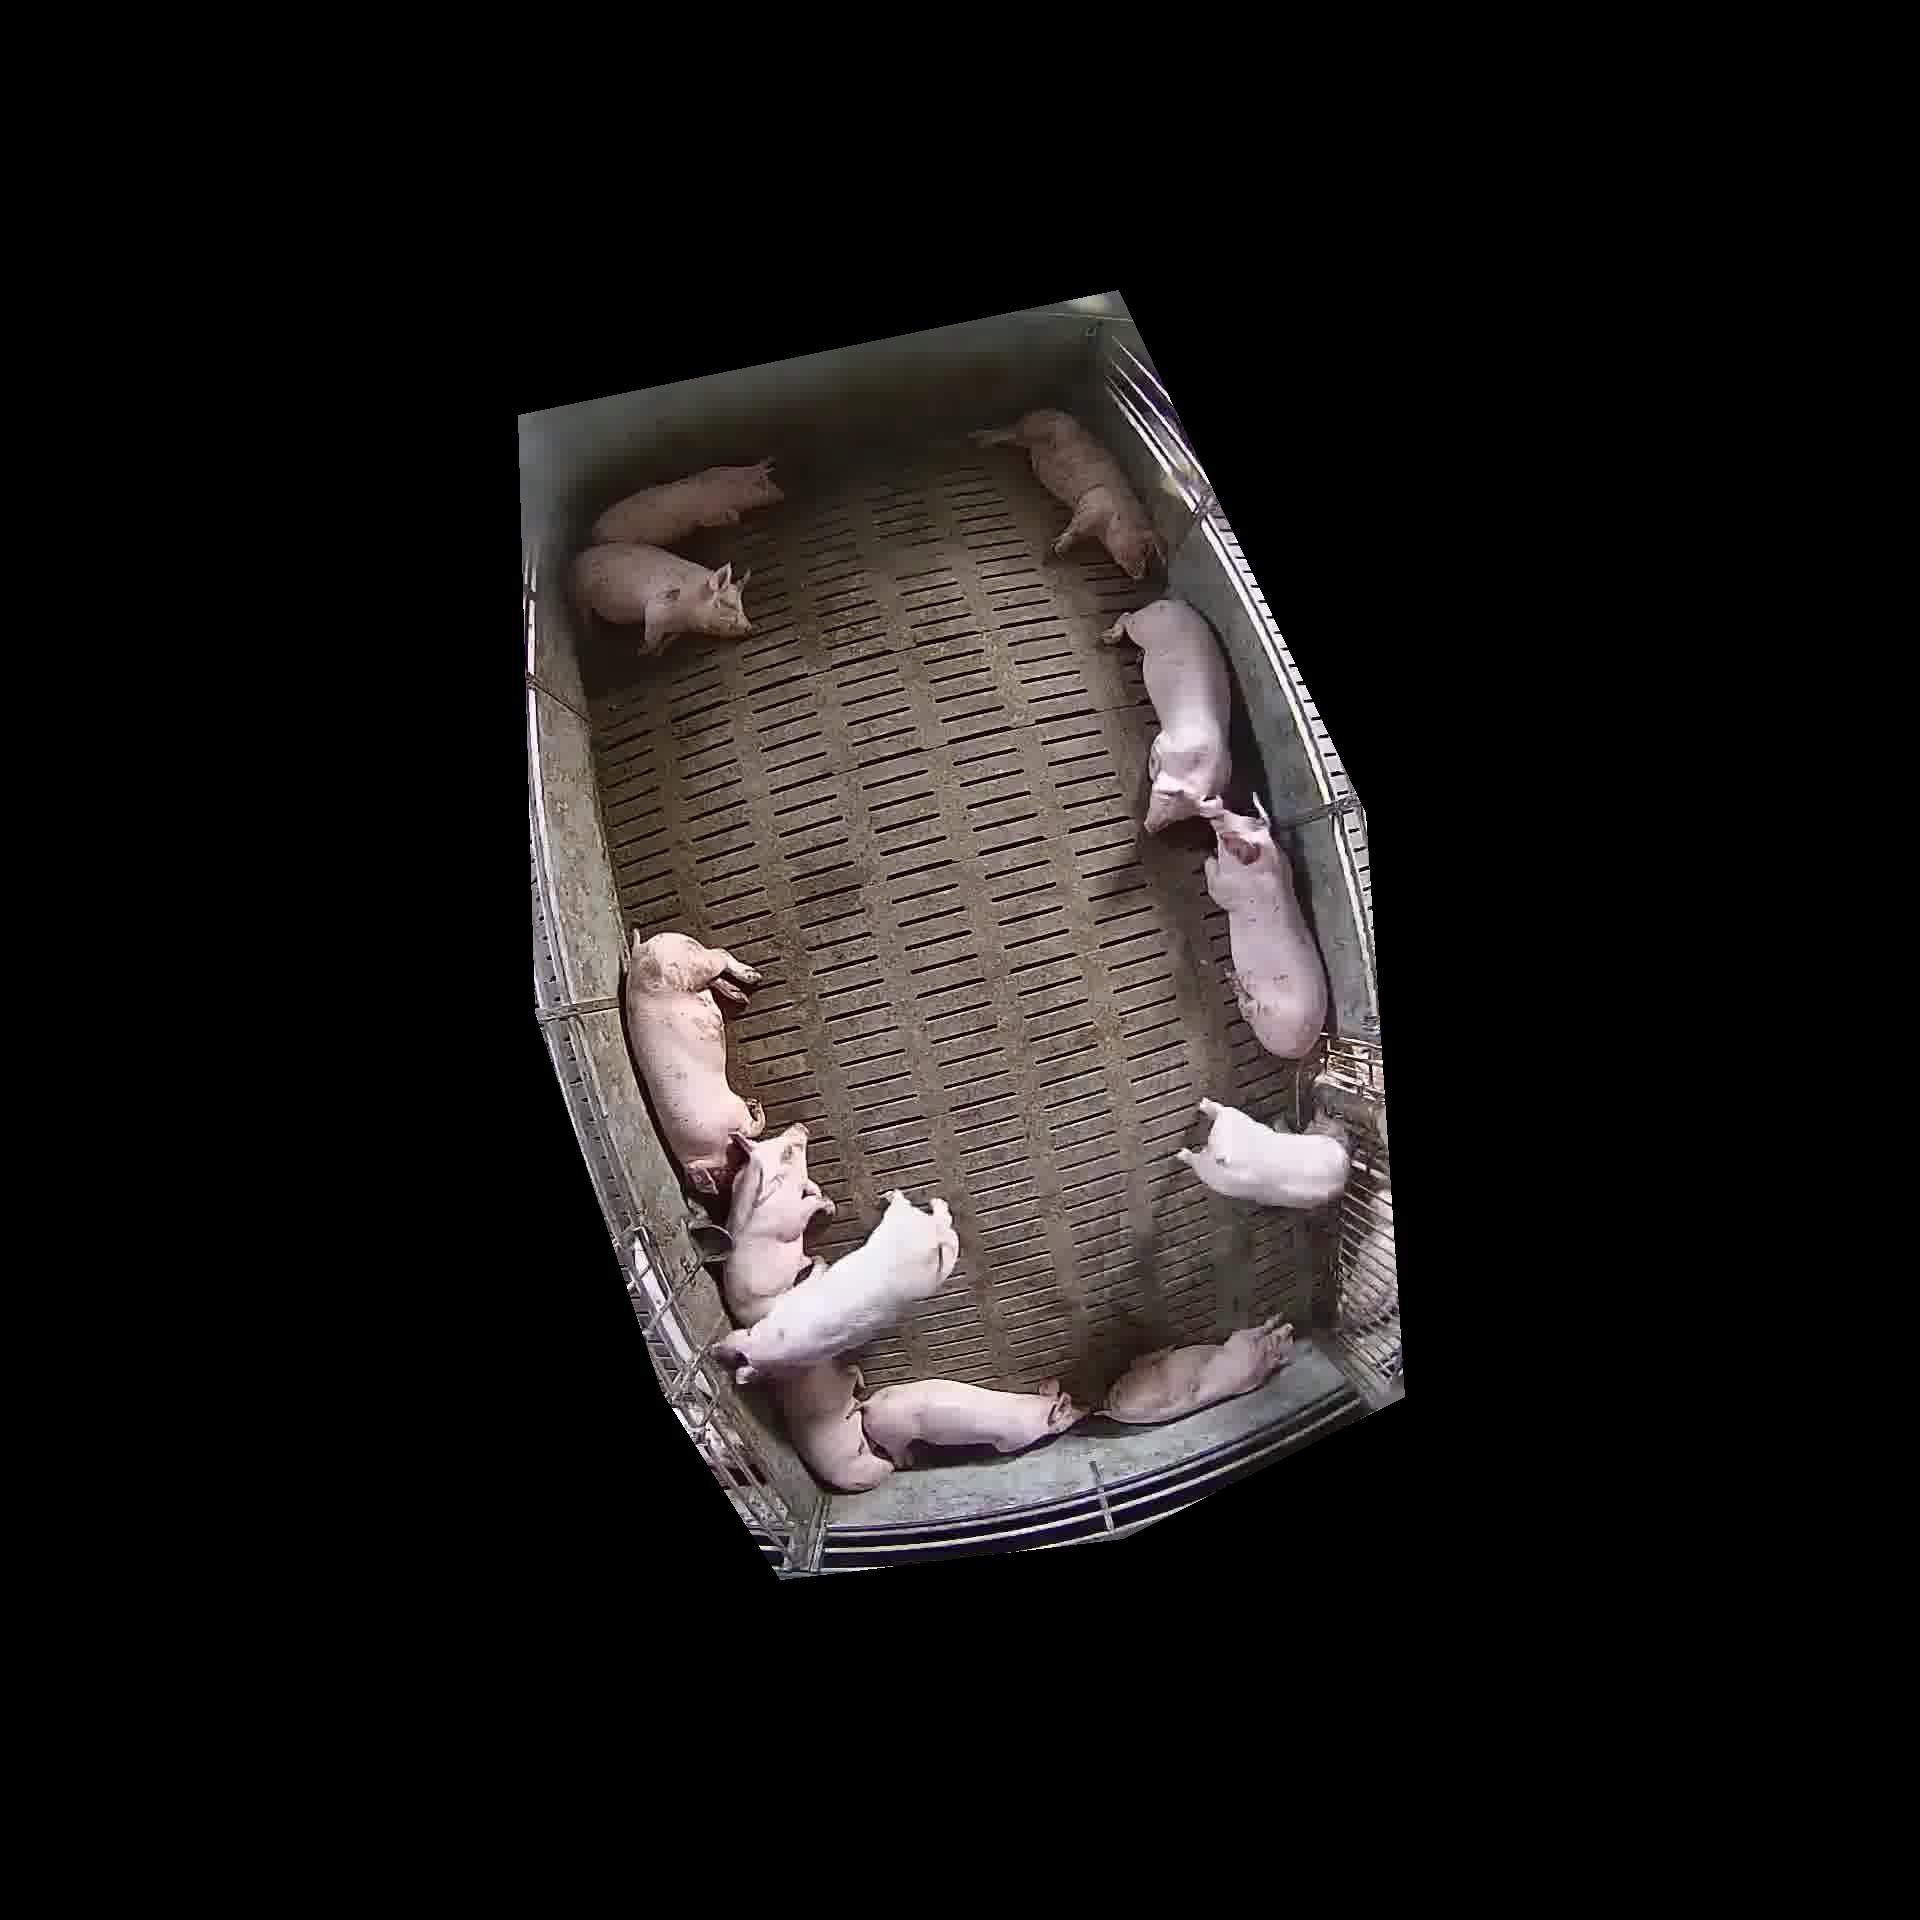pig: (716, 1190, 958, 1380), (624, 934, 765, 1194), (1201, 796, 1327, 1057), (972, 410, 1160, 578), (1104, 598, 1231, 833), (723, 1124, 833, 1326), (1104, 1315, 1294, 1422), (862, 1378, 1083, 1466), (573, 543, 751, 652), (1178, 1099, 1349, 1208), (593, 459, 782, 545), (772, 1363, 891, 1489)
